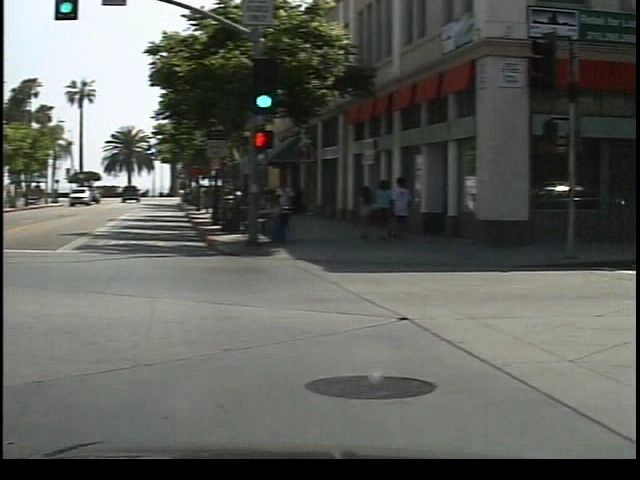person: (283, 175, 310, 234)
